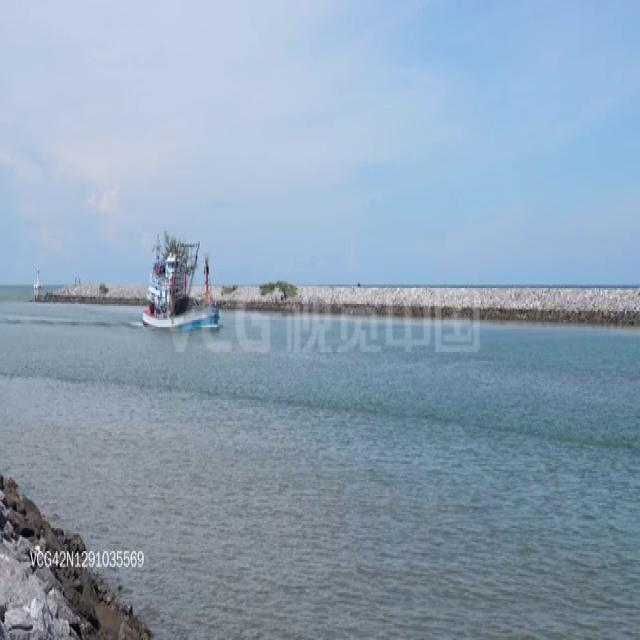fishing boat: (142, 231, 219, 333)
